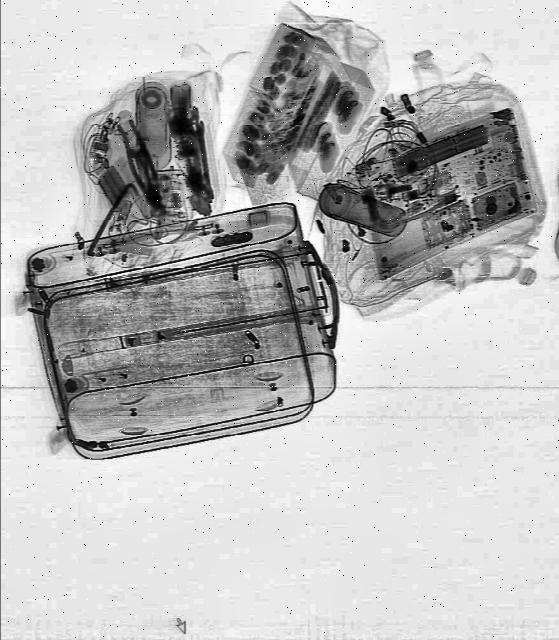Pliers: (111, 116, 168, 214)
